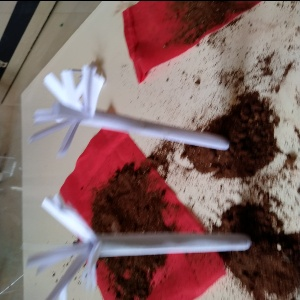weed: (20, 192, 257, 294), (24, 64, 236, 169)
